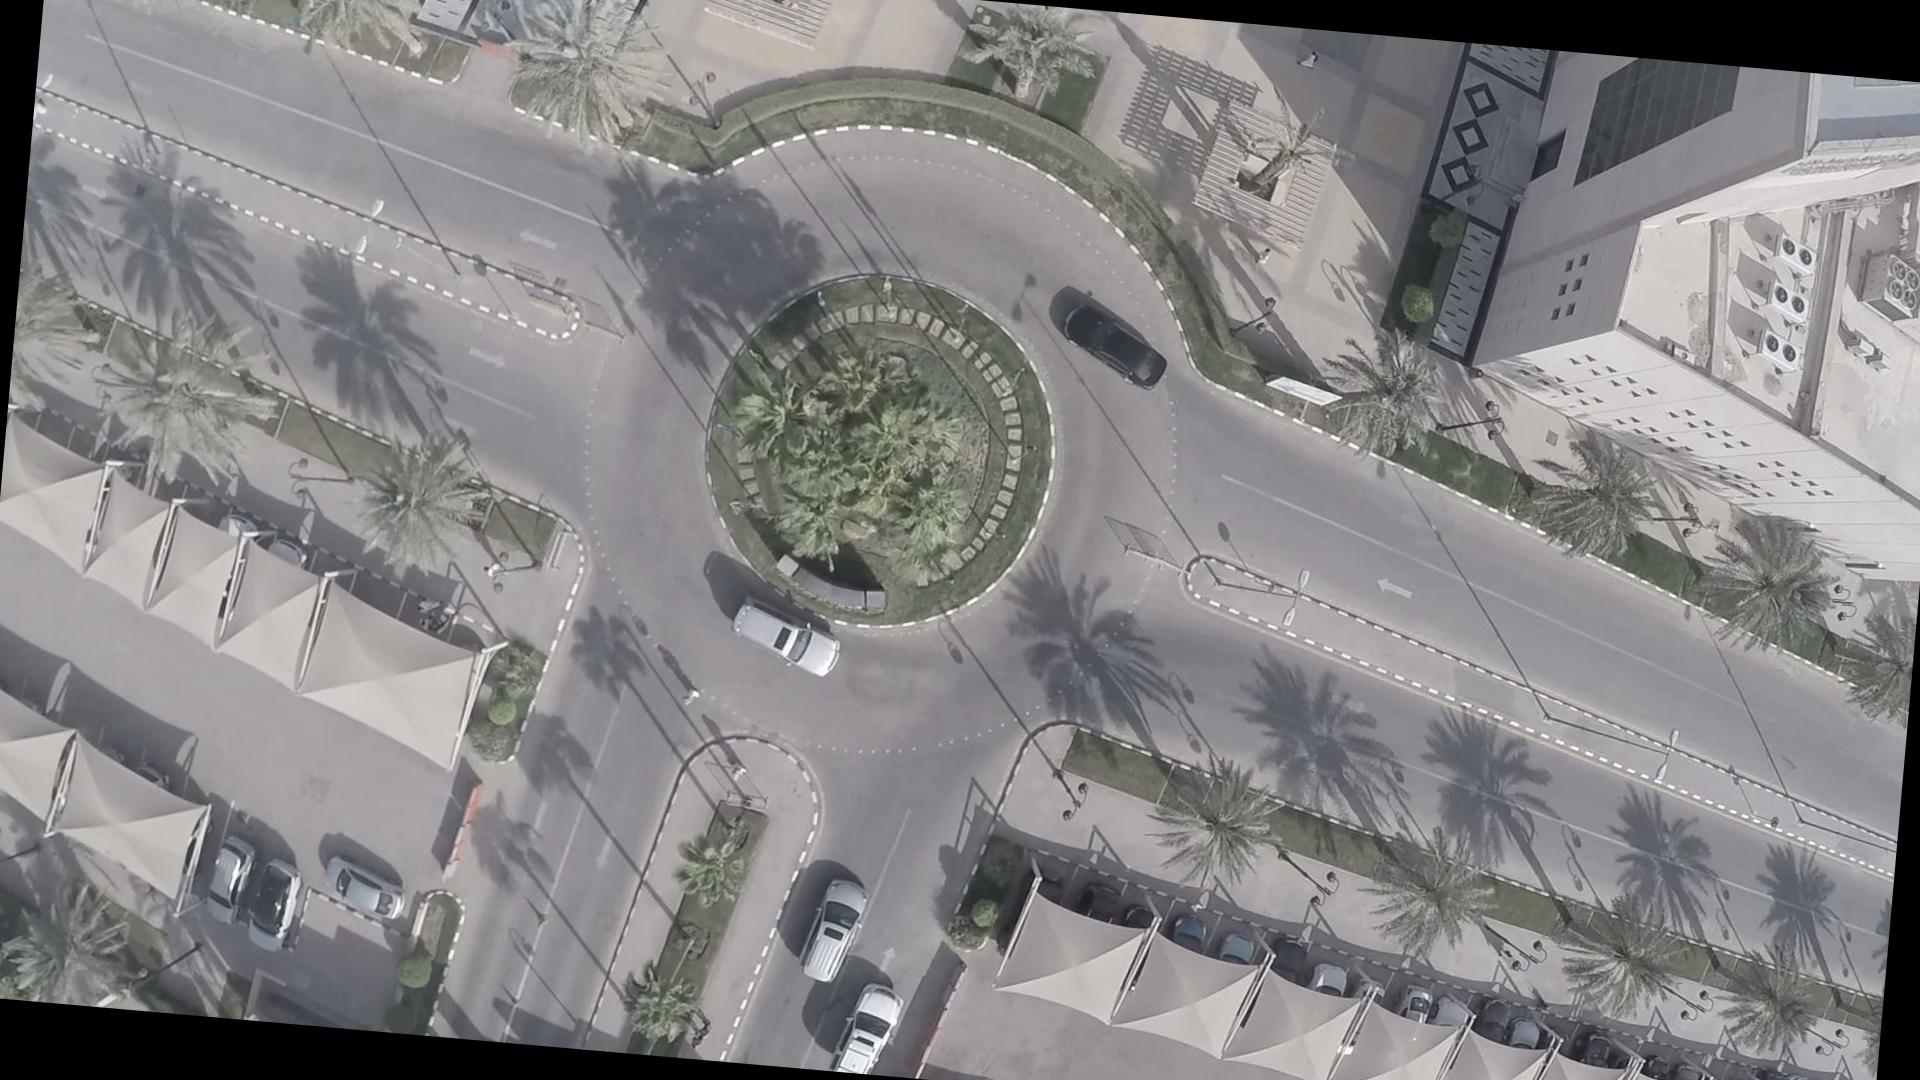vehicle: (1052, 295, 1168, 388), (717, 596, 844, 678), (803, 872, 865, 990)
